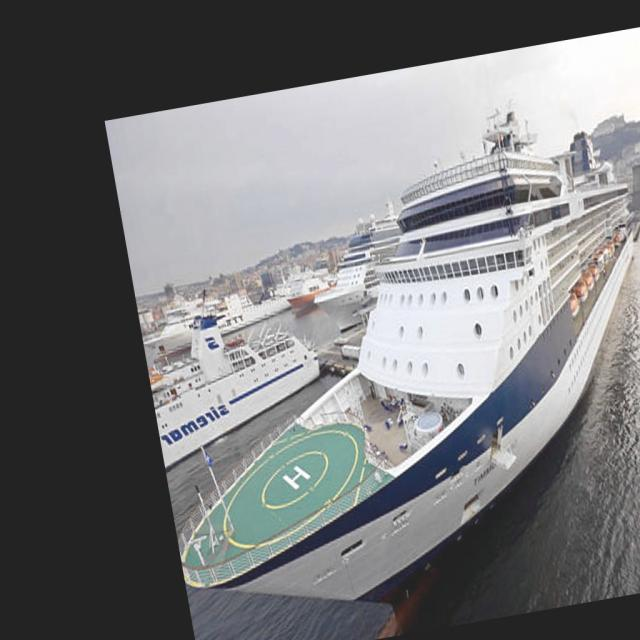helipad: (258, 448, 329, 508)
